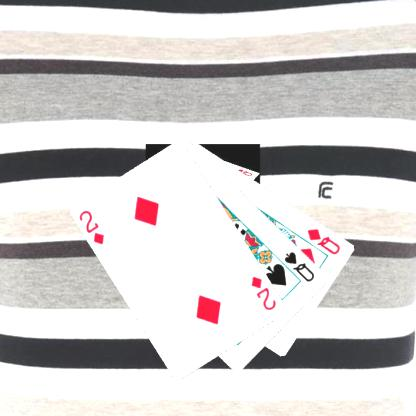2D: (248, 273, 278, 312), (76, 207, 106, 246)
QD: (304, 226, 342, 256)
QS: (282, 249, 316, 283)
